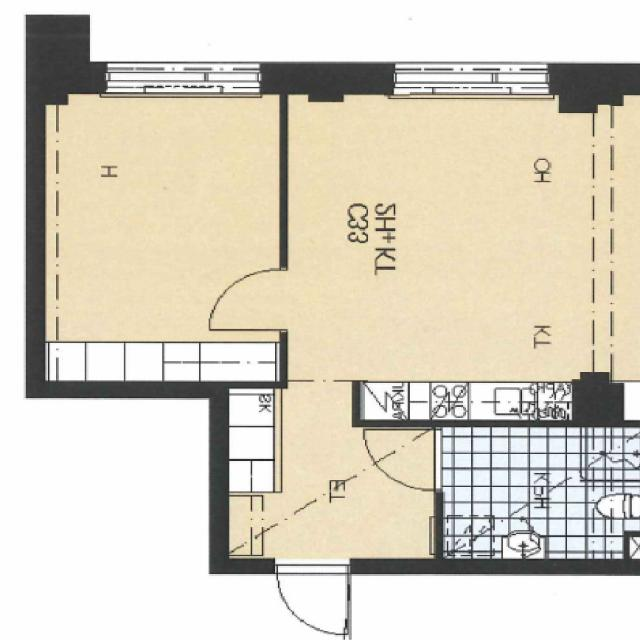door: (275, 560, 350, 640), (364, 430, 444, 491), (210, 271, 288, 330)
